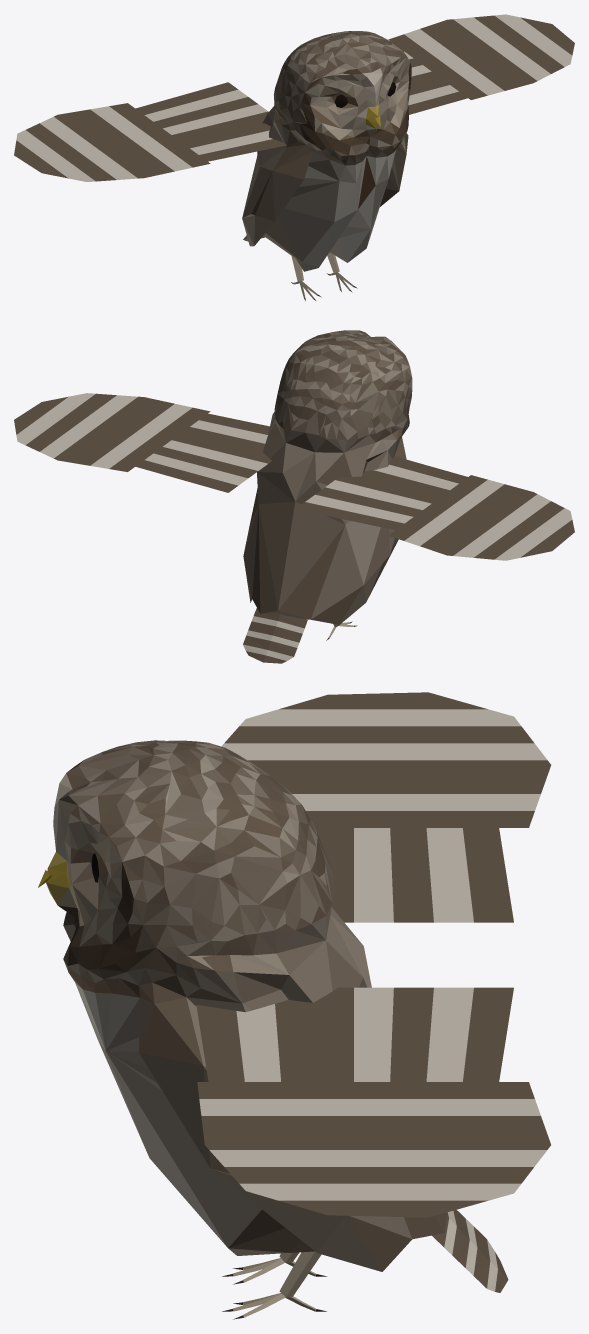
File: barred_owl.glb
3 renders of one model, top to bottom at view 1: azimuth 30°, elevation 25°; view 2: azimuth 150°, elevation 25°; view 3: azimuth 270°, elevation 25°, orthographic. The views are drawn at different scales.
Visible parts, largest first — view 1: lod0; view 2: lod0; view 3: lod0.
Part boxes in pixels (x1,y1,x2,y2): lod0: [14, 14, 574, 300]; lod0: [14, 330, 574, 663]; lod0: [38, 692, 551, 1319].
Size of what is drawn, in the model's own units: 1.05 by 0.5005 by 0.4339.
